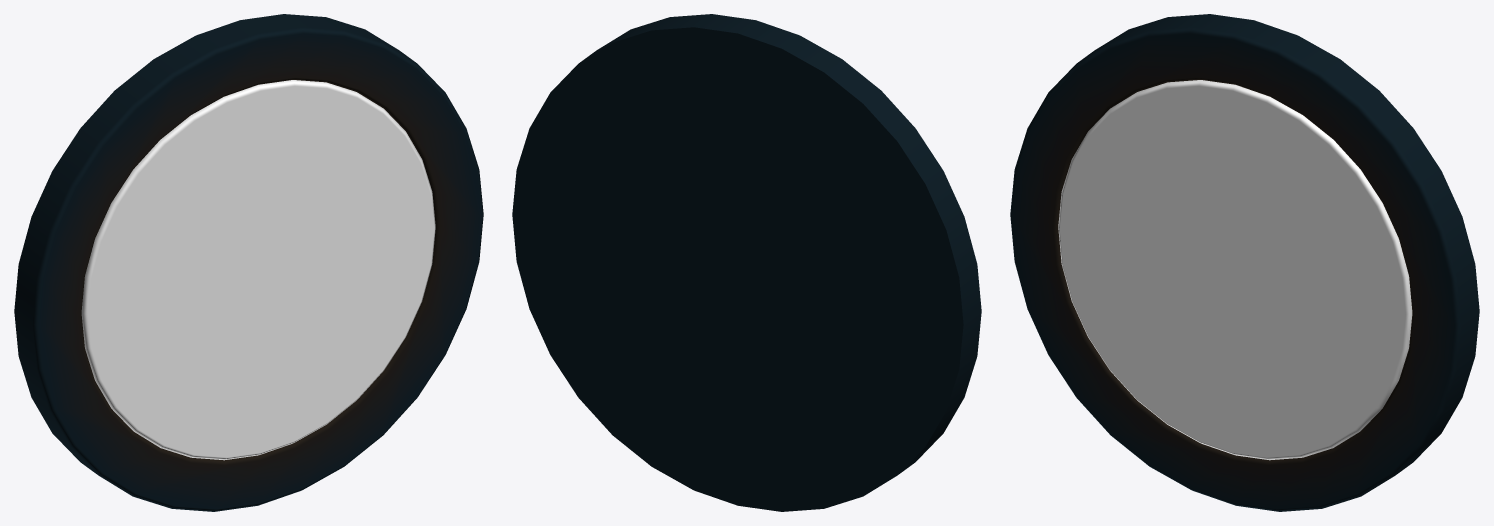
The picture shows the model from 3 angles, left to right: view 1: azimuth 30°, elevation 25°; view 2: azimuth 150°, elevation 25°; view 3: azimuth 330°, elevation 25°; orthographic projection.
Visible parts, largest first — view 1: Glass_LP_Glass_0, Clock_LP_Clock_0; view 2: Clock_LP_Clock_0; view 3: Glass_LP_Glass_0, Clock_LP_Clock_0.
Boxes of the visible parts, box(x1,y1,x2,y2) form: Glass_LP_Glass_0: box(81, 80, 435, 460); Clock_LP_Clock_0: box(14, 14, 483, 511); Clock_LP_Clock_0: box(512, 14, 981, 511); Glass_LP_Glass_0: box(1058, 80, 1412, 460); Clock_LP_Clock_0: box(1010, 14, 1479, 511).
Bounding box in the file's own units: 316 × 316 × 25.8.
